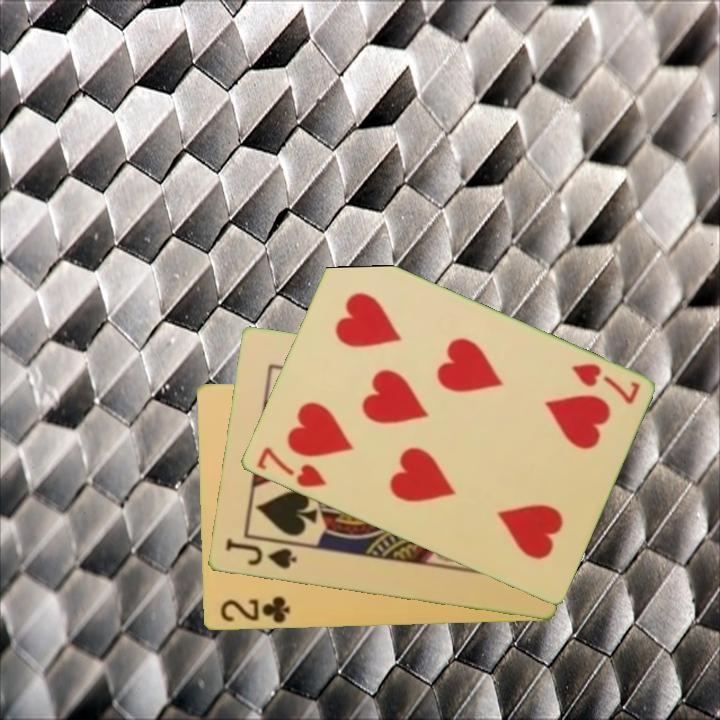2c: (217, 593, 293, 626)
7h: (252, 443, 329, 491), (567, 360, 643, 408)
Js: (221, 535, 299, 573)
